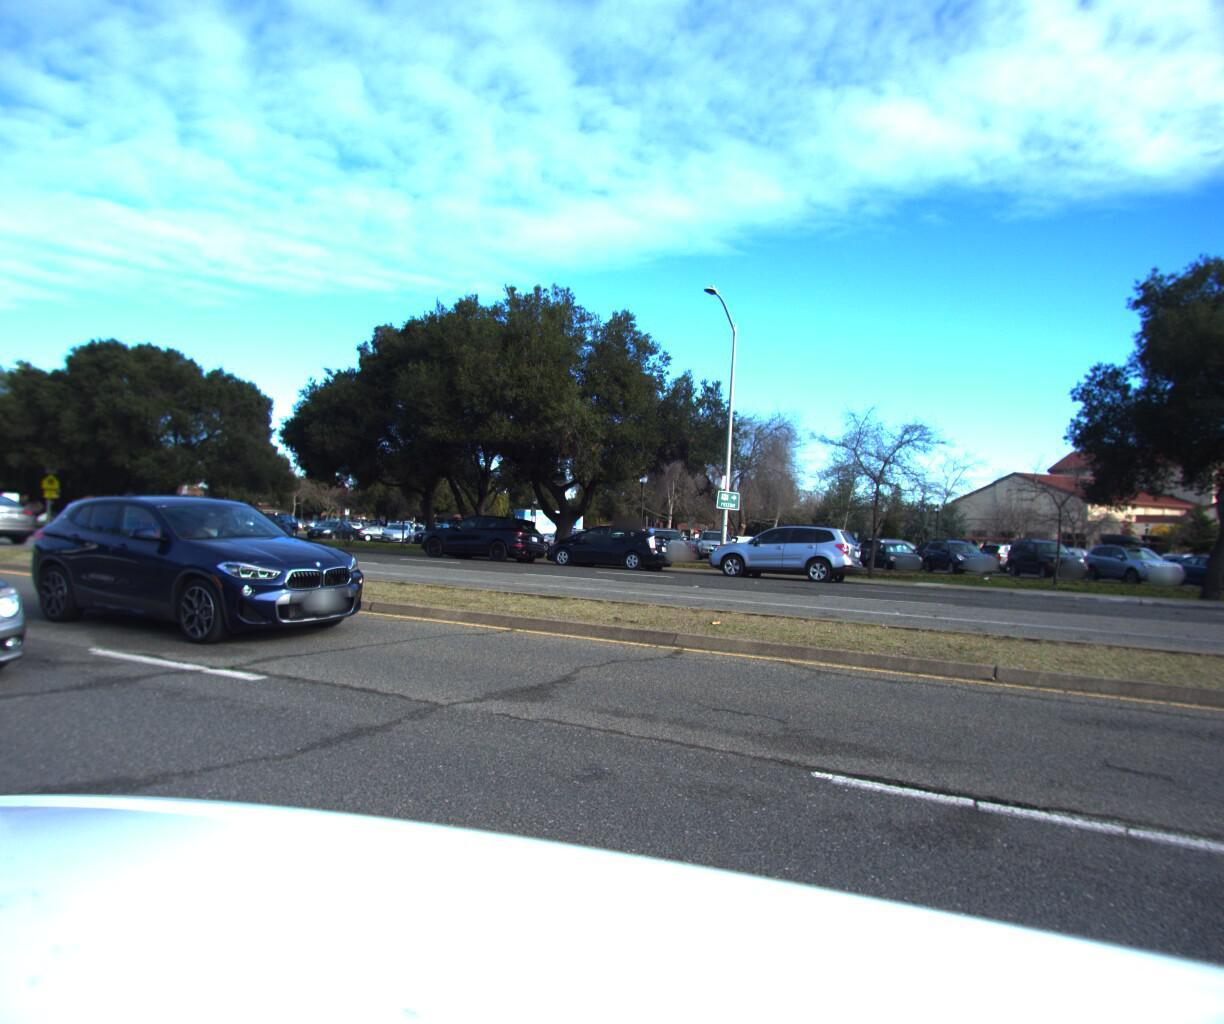car: (12, 484, 376, 654), (0, 491, 54, 732), (699, 516, 871, 580), (411, 509, 553, 560), (538, 518, 681, 567), (53, 497, 152, 537), (0, 480, 54, 541)
